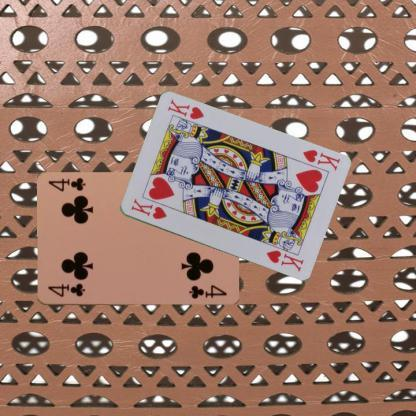4c: (45, 280, 86, 298)
Kh: (299, 147, 341, 173), (128, 196, 168, 221)
